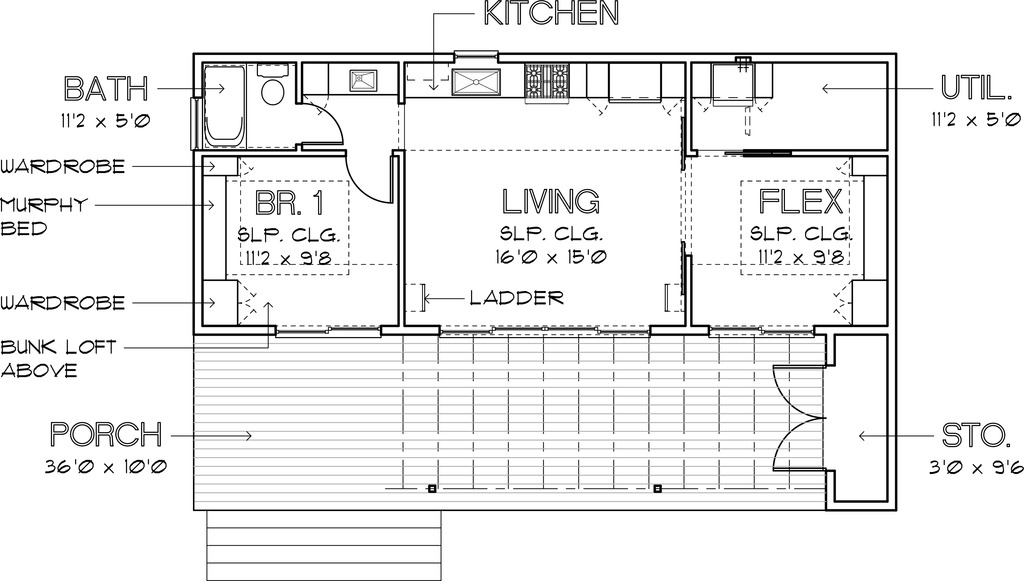door: (766, 362, 828, 473), (343, 152, 399, 207), (297, 98, 345, 142)
large_sink: (247, 62, 303, 111)
sink: (447, 68, 507, 96)
tub: (199, 61, 245, 149)
